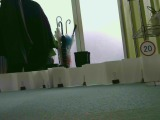speed_20: (138, 39, 156, 57)
